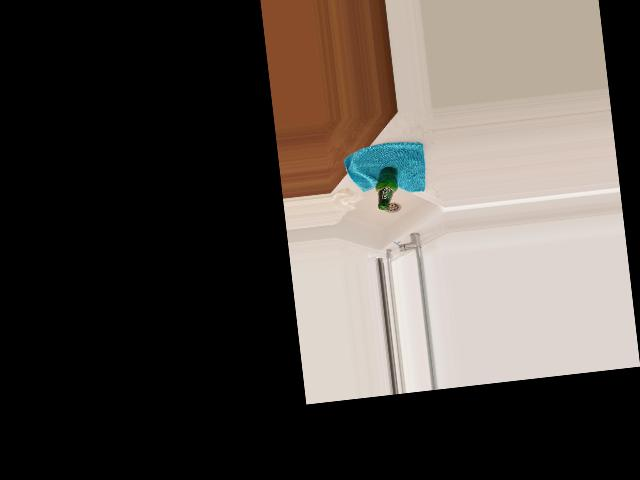beer: (373, 165, 401, 209)
